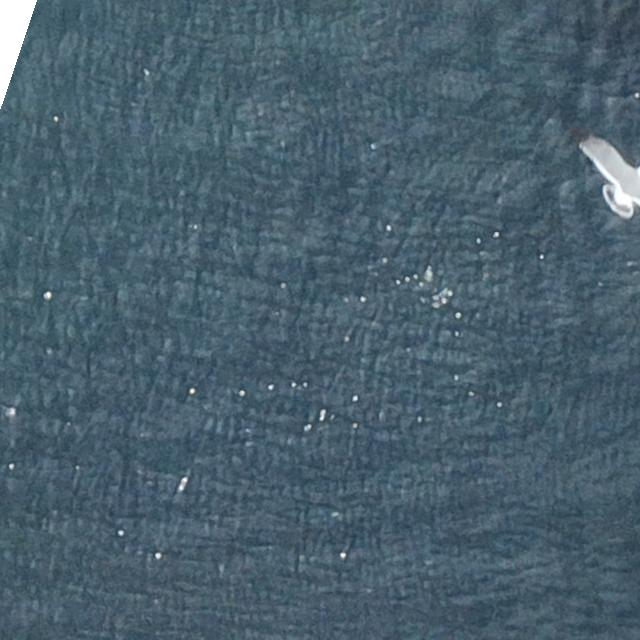F: (580, 138, 640, 212)
